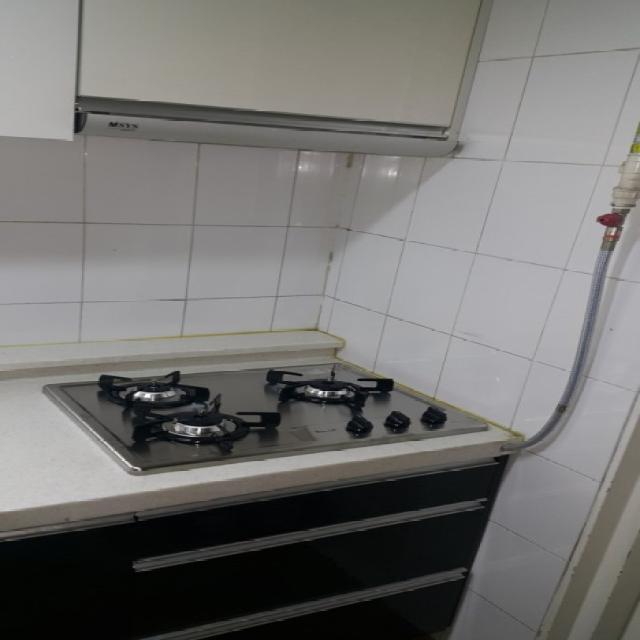knob_ON: (95, 336, 477, 453)
